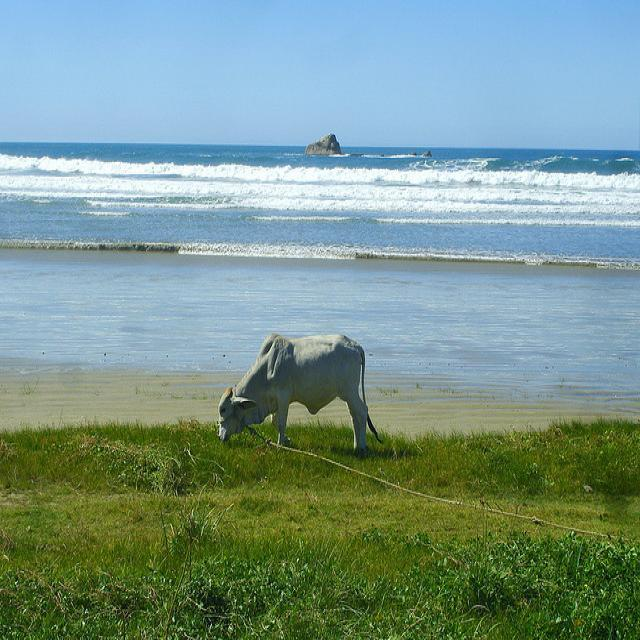cow: (216, 331, 385, 456)
